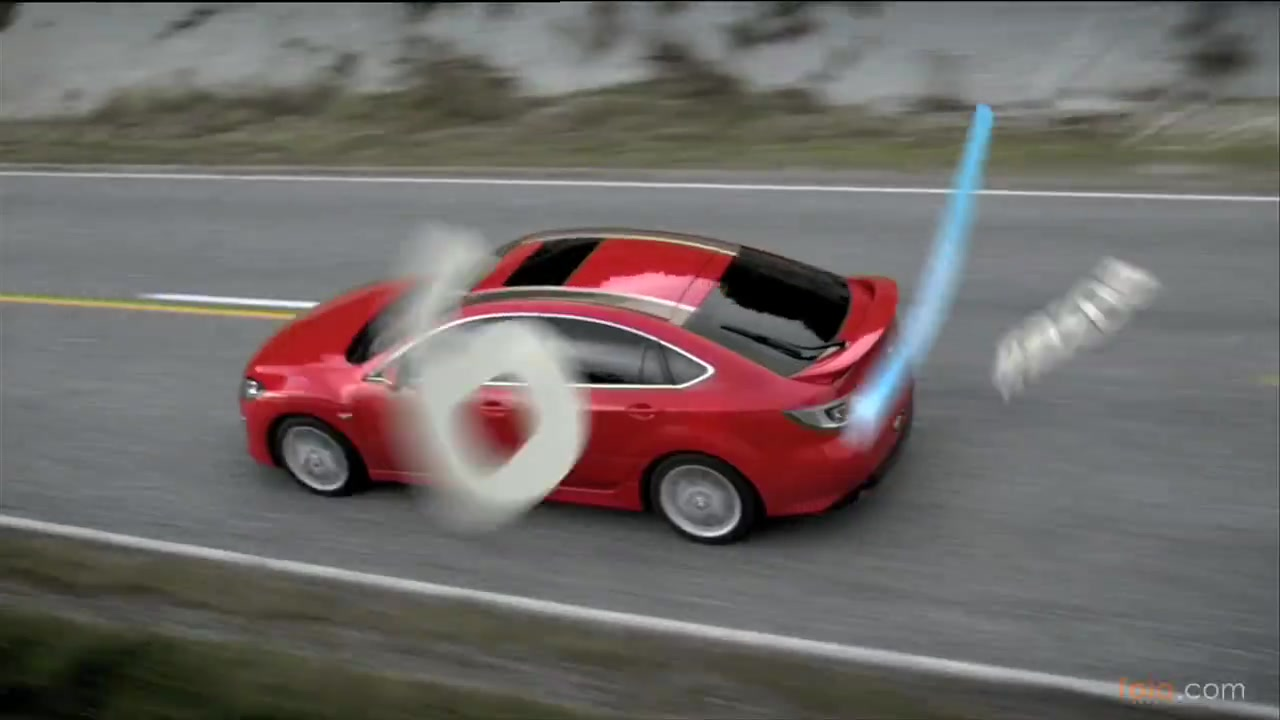car: (234, 228, 915, 543)
